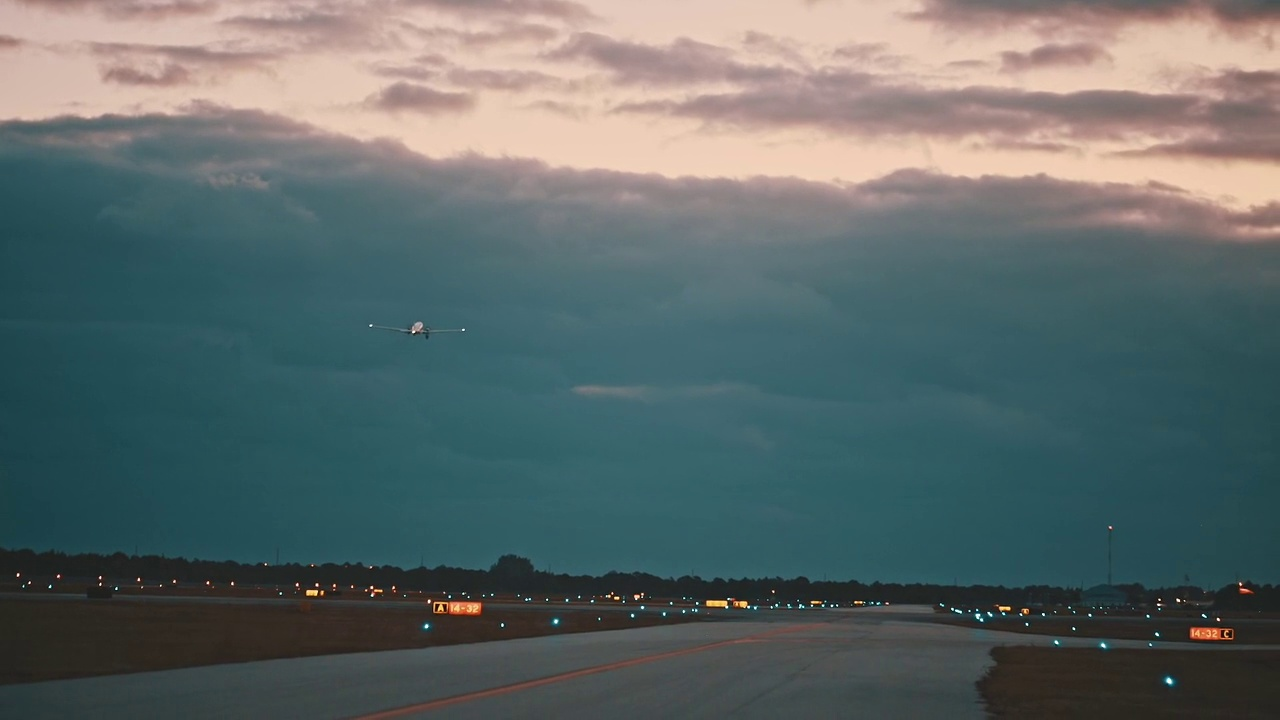plane: (366, 318, 465, 338)
